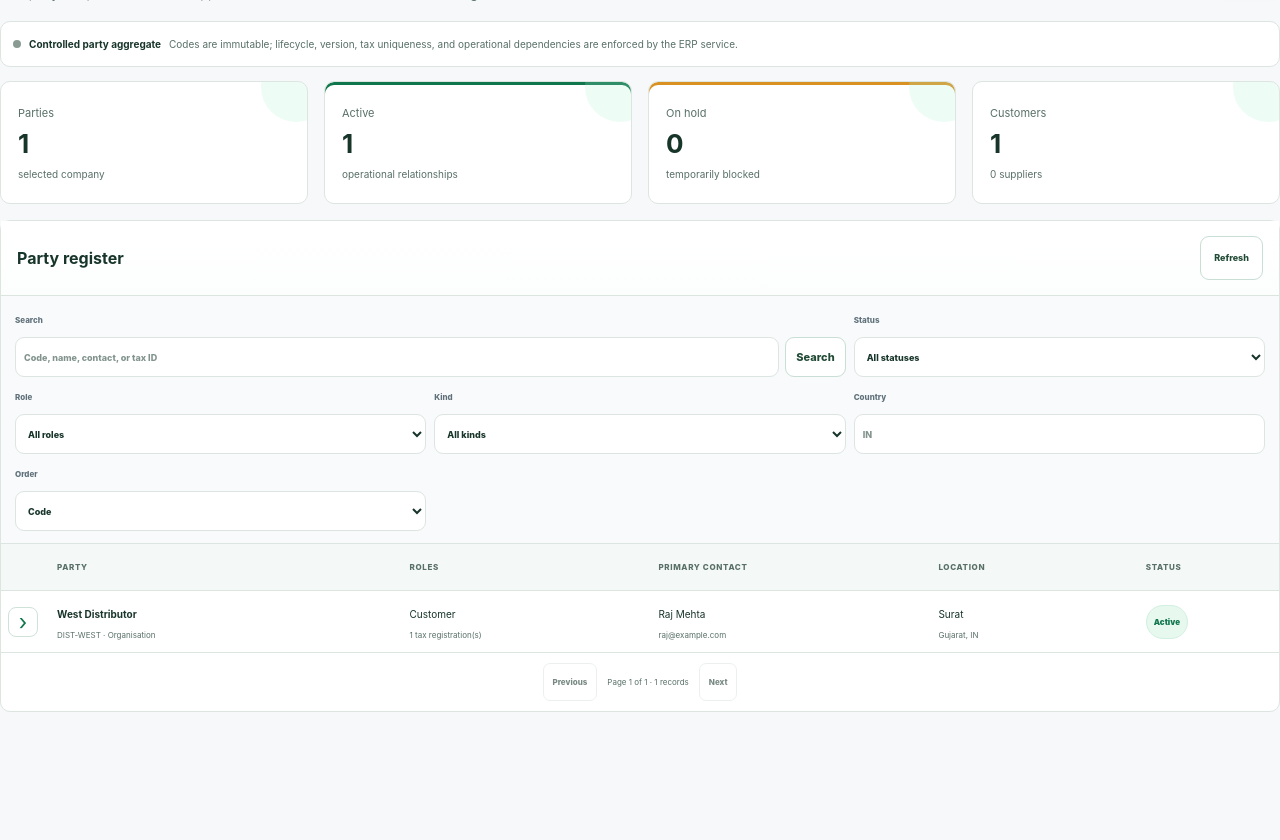
party master workspace › filters the company register and opens the complete party aggregate
Check: the text "West Distributor" is shown, box x1=57 y1=608 x2=137 y2=620
Select "CUSTOMER" in the dropdown named "Filter party role": [221, 434] box x1=15 y1=414 x2=426 y2=454
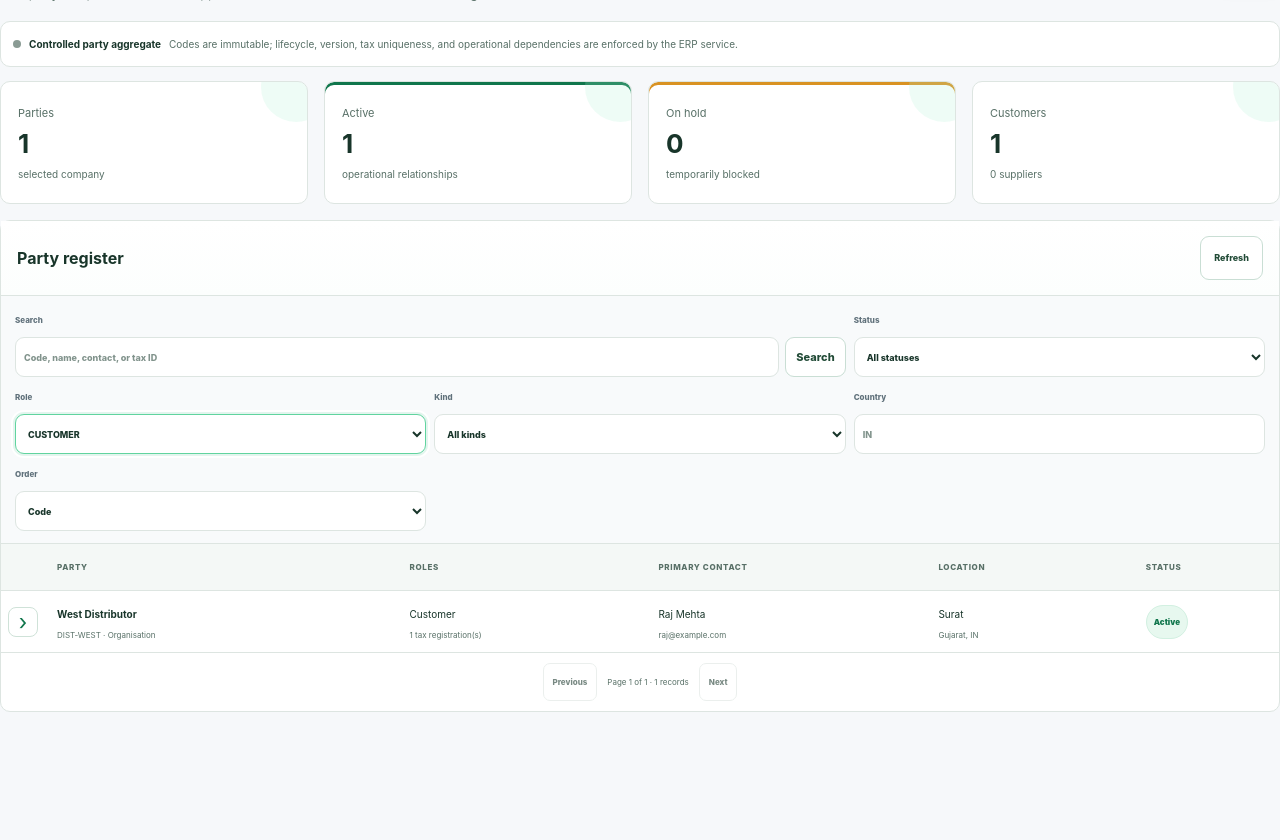
In the field named "Search parties": [397, 357] box x1=15 y1=337 x2=779 y2=377, type "west"
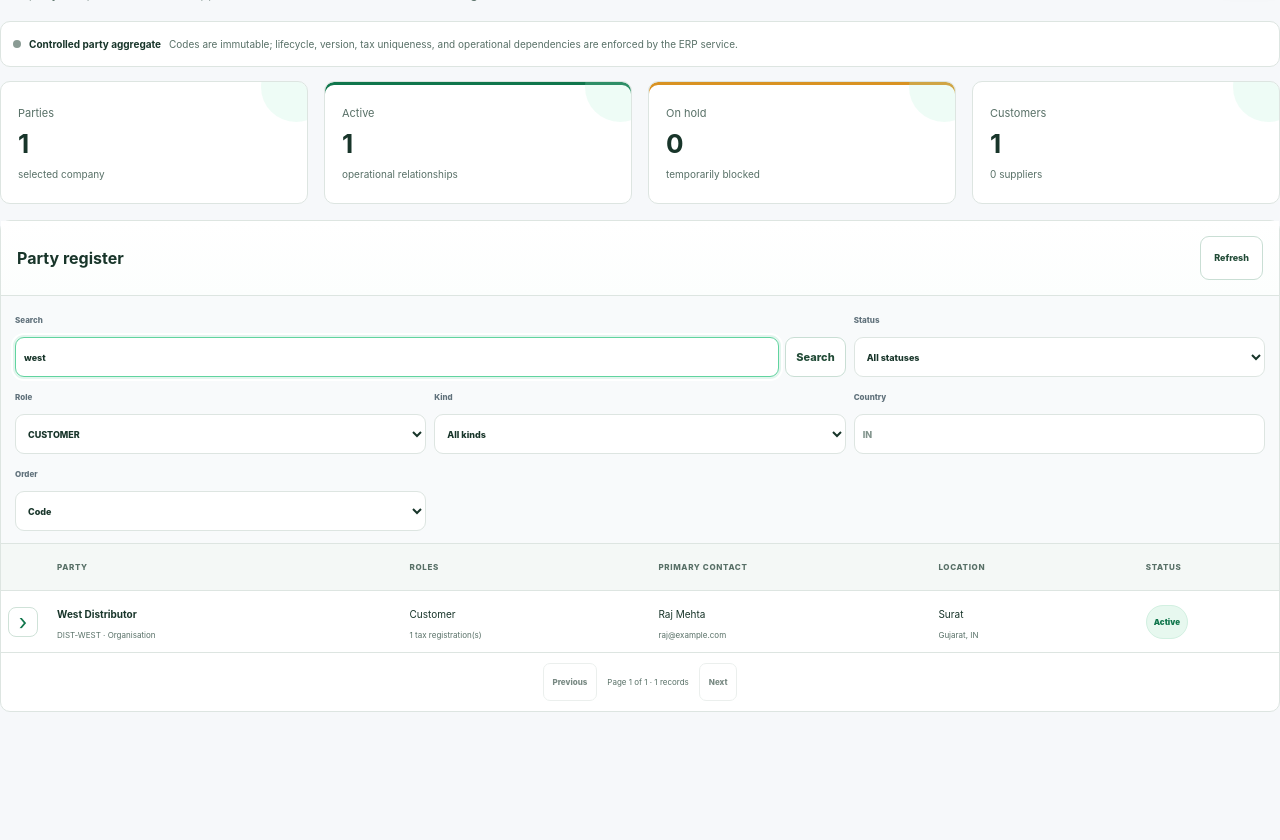
Click the button "Search": [816, 357] box x1=785 y1=337 x2=846 y2=377
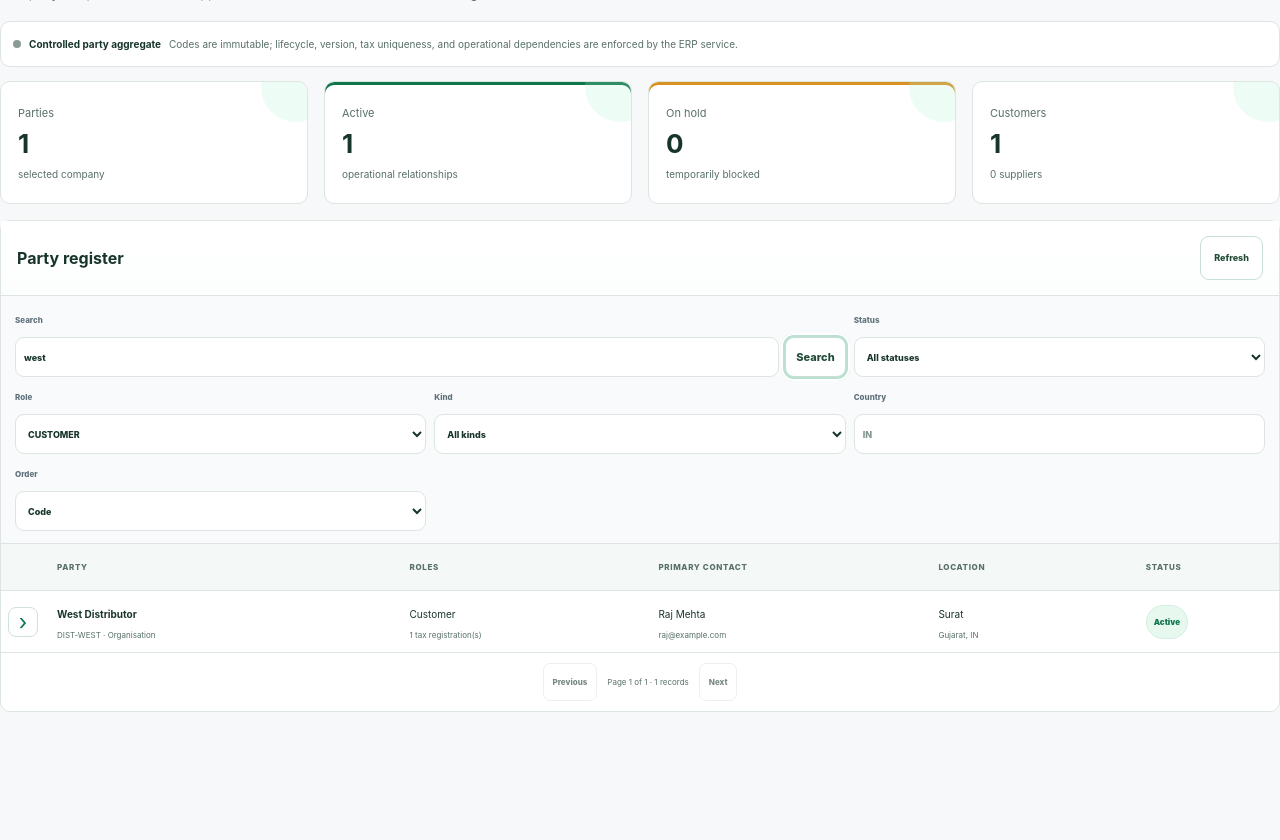
Click the button named "Expand DIST-WEST West Distributor": [23, 622] box x1=8 y1=607 x2=38 y2=637
(page scrolled)
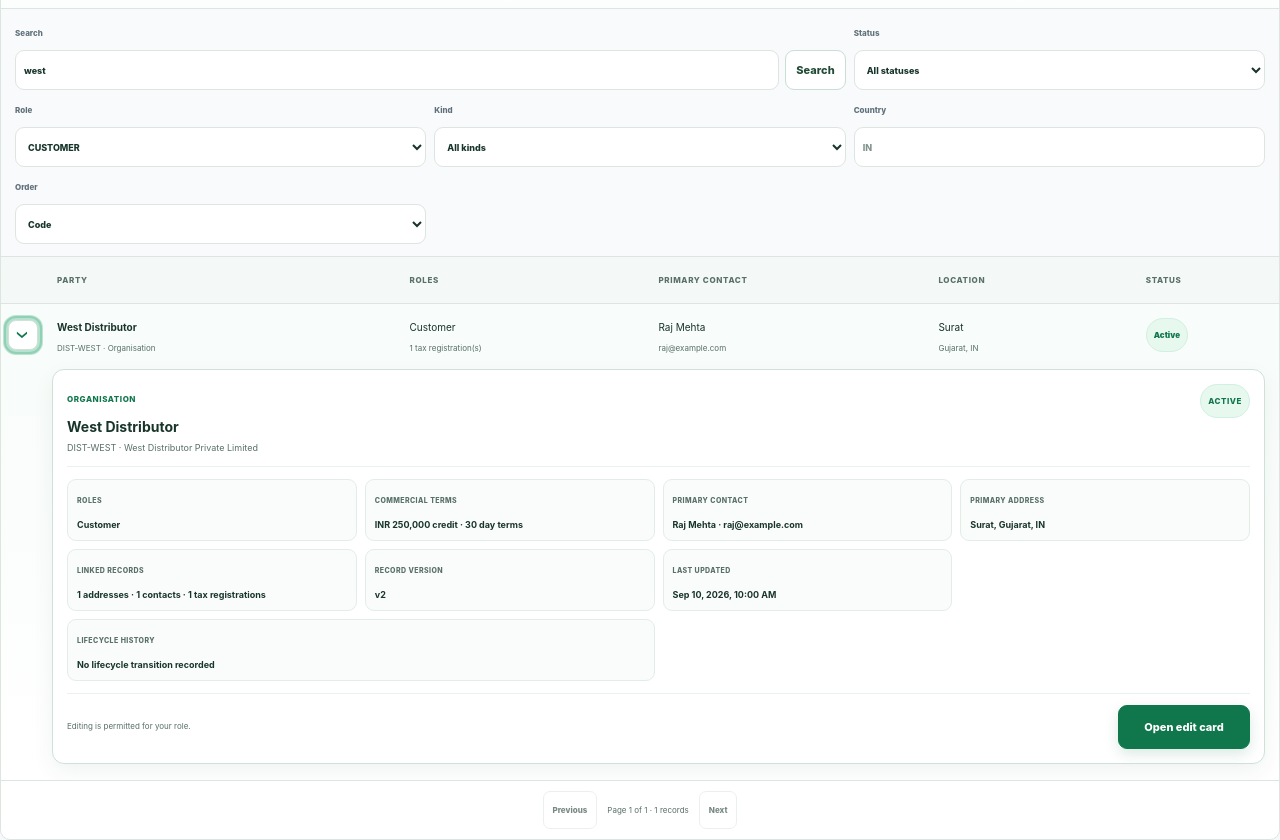
Click the button "Open edit card": [1184, 727] box x1=1118 y1=705 x2=1250 y2=749
(page scrolled)
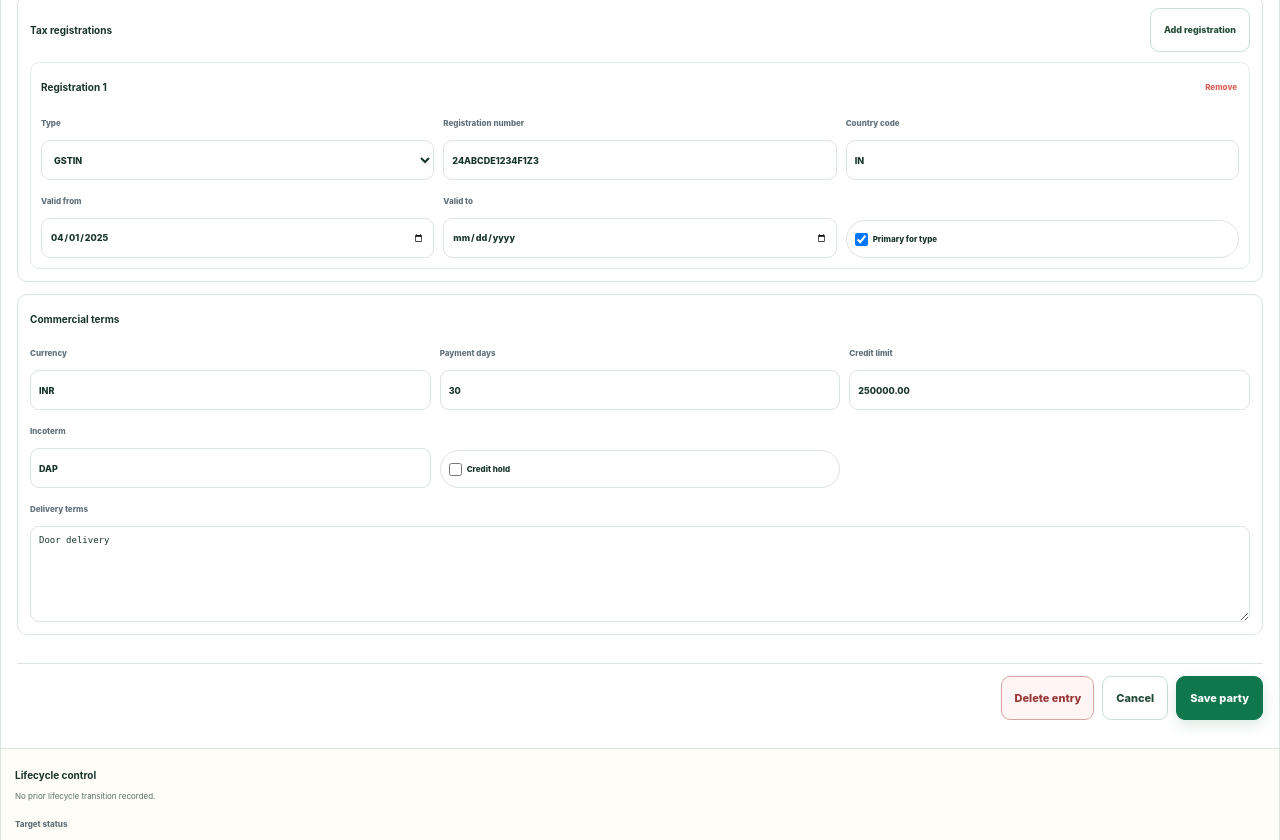
Check: the field showing "24ABCDE1234F1Z3" is shown, box x1=443 y1=140 x2=837 y2=180
Check: the field named "Commercial currency" holds "INR", box x1=30 y1=370 x2=431 y2=410
Check: the number field labelled "Credit limit" holds "250000", box x1=849 y1=370 x2=1250 y2=410
